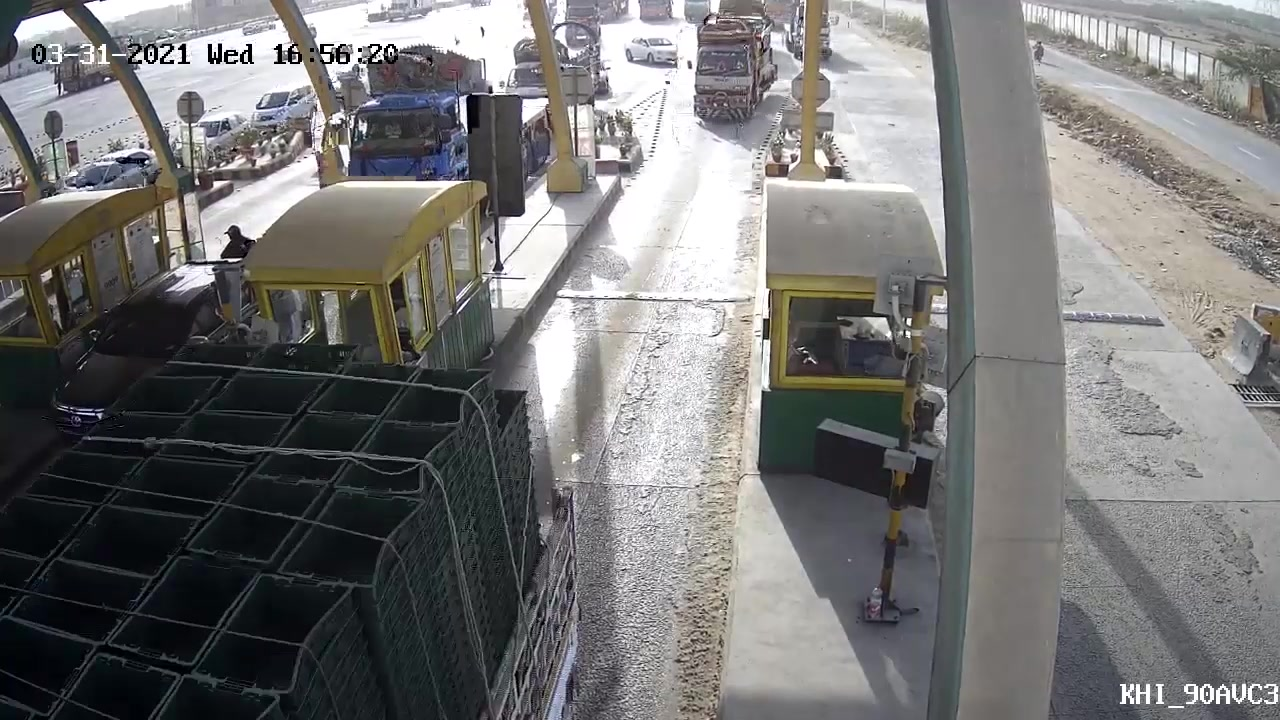F5: (676, 17, 777, 144)
